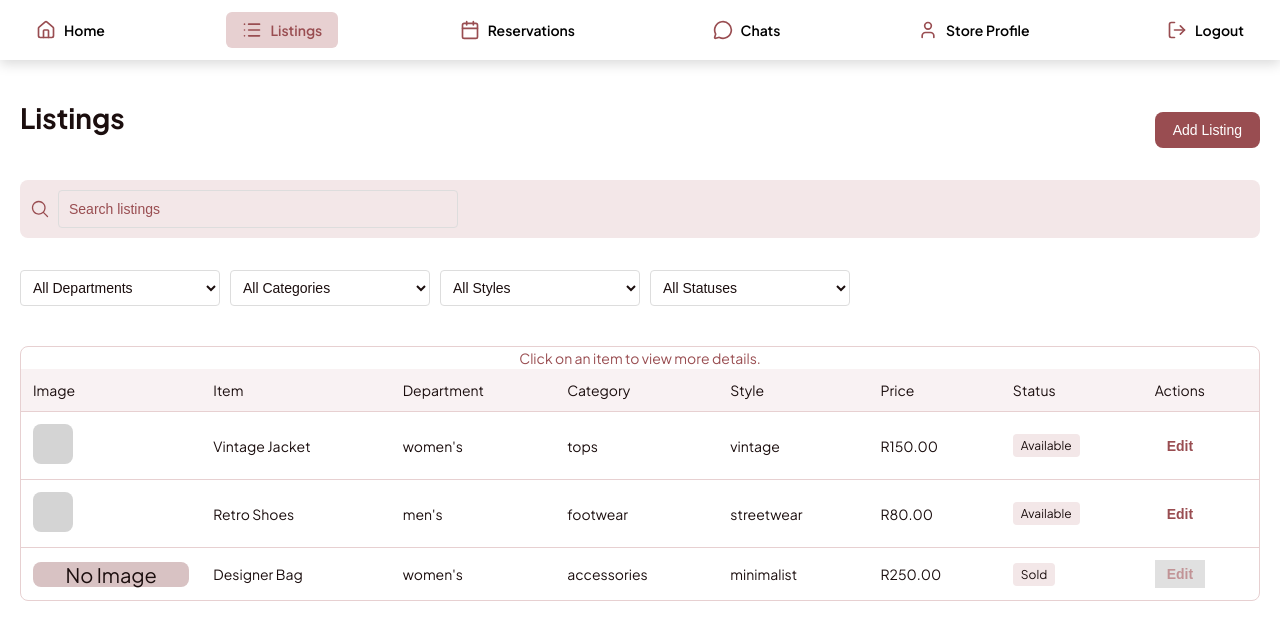
Test: StoreListings › Search and Filtering › filters by category
Check: the text "Vintage Jacket" is shown, box [201, 412, 391, 480]
Step 1. Select "accessories" in the 2nd dropdown showing "All Categories" → (330, 288), box [230, 270, 430, 306]
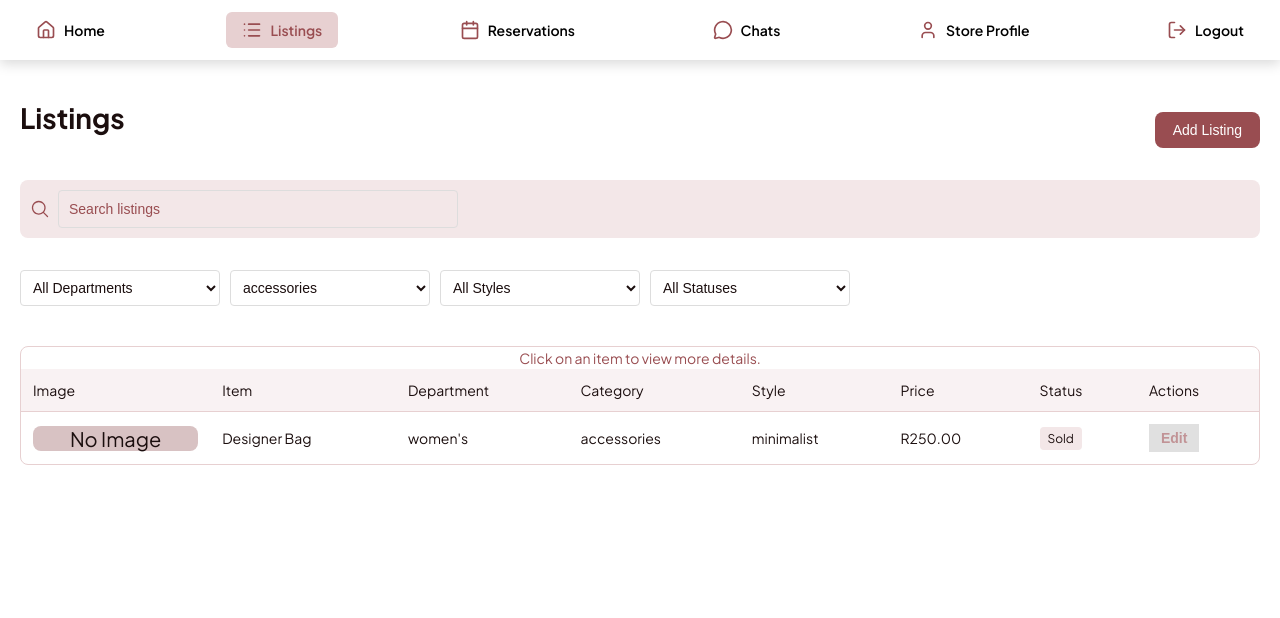
Check: the text "Designer Bag" is shown, box [210, 412, 396, 464]
Check: the text "Vintage Jacket" is gone
Check: the text "Retro Shoes" is gone
